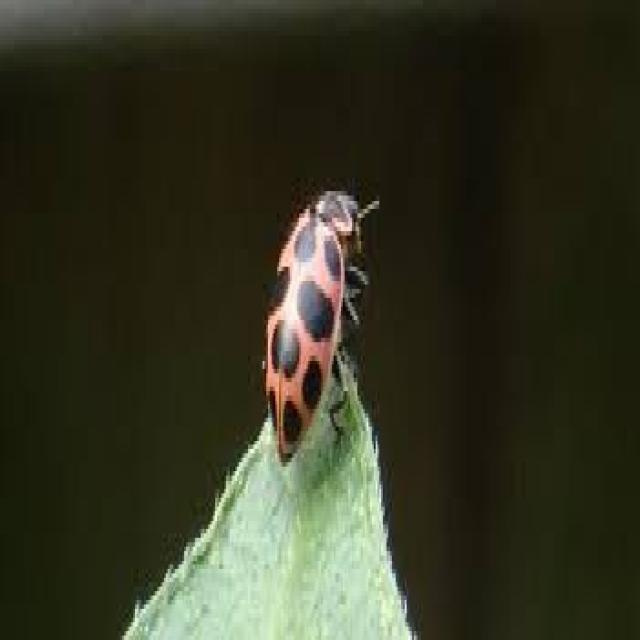bug: (261, 178, 383, 474)
